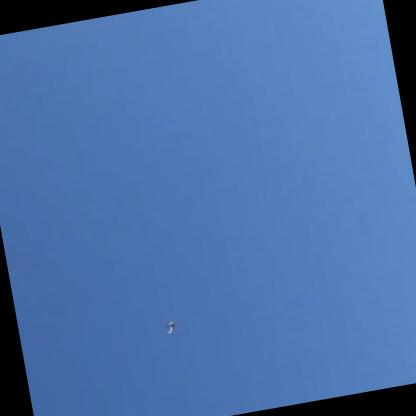plane: (165, 319, 177, 332)
